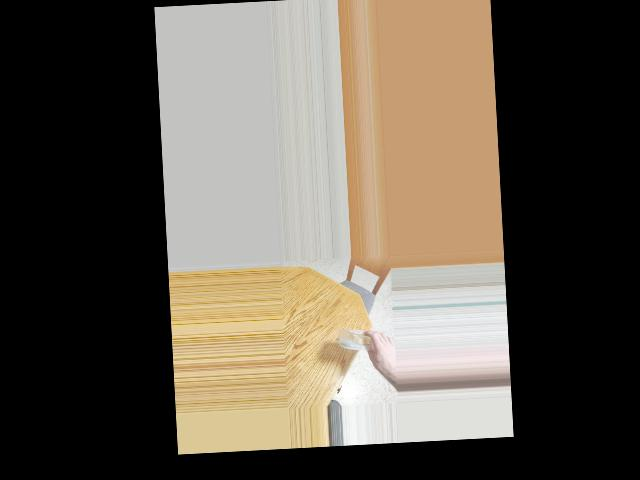cheese: (336, 318, 385, 369)
